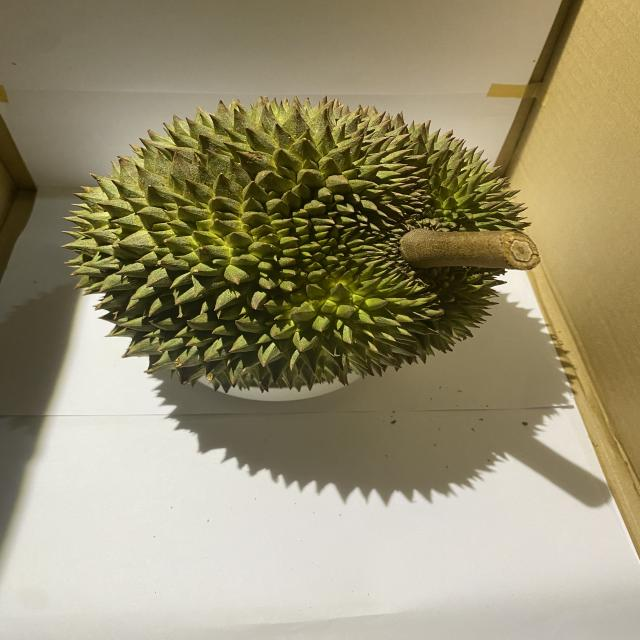immature: (51, 91, 532, 394)
